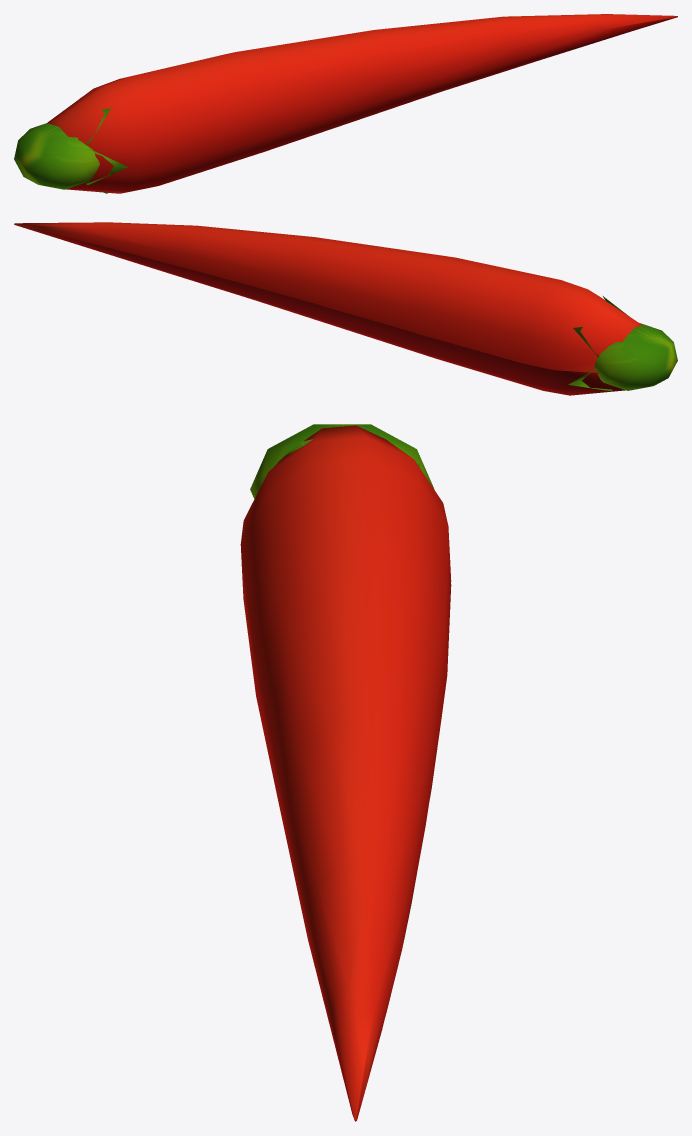
Rendered from NP_ChiliPepper_Harvest_LOD1.fbx.
The picture shows the model from 3 angles, top to bottom: view 1: azimuth 30°, elevation 25°; view 2: azimuth 150°, elevation 25°; view 3: azimuth 270°, elevation 25°; orthographic projection. The views are drawn at different scales.
Parts seen in each view (by area): view 1: NP_ChiliPepper_Harvest; view 2: NP_ChiliPepper_Harvest; view 3: NP_ChiliPepper_Harvest.
Boxes of the visible parts, x1,y1,x2,y2 form: NP_ChiliPepper_Harvest: (14,14,677,193); NP_ChiliPepper_Harvest: (14,222,677,395); NP_ChiliPepper_Harvest: (240,424,451,1121).
Bounding box in the file's own units: 38.27 × 5.8 × 5.34.
